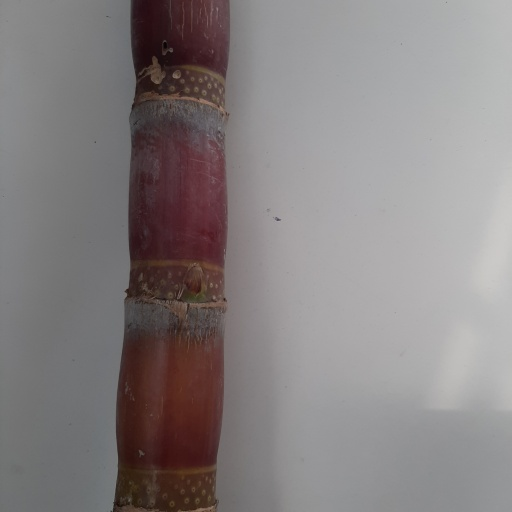Bud: (186, 262, 204, 294)
